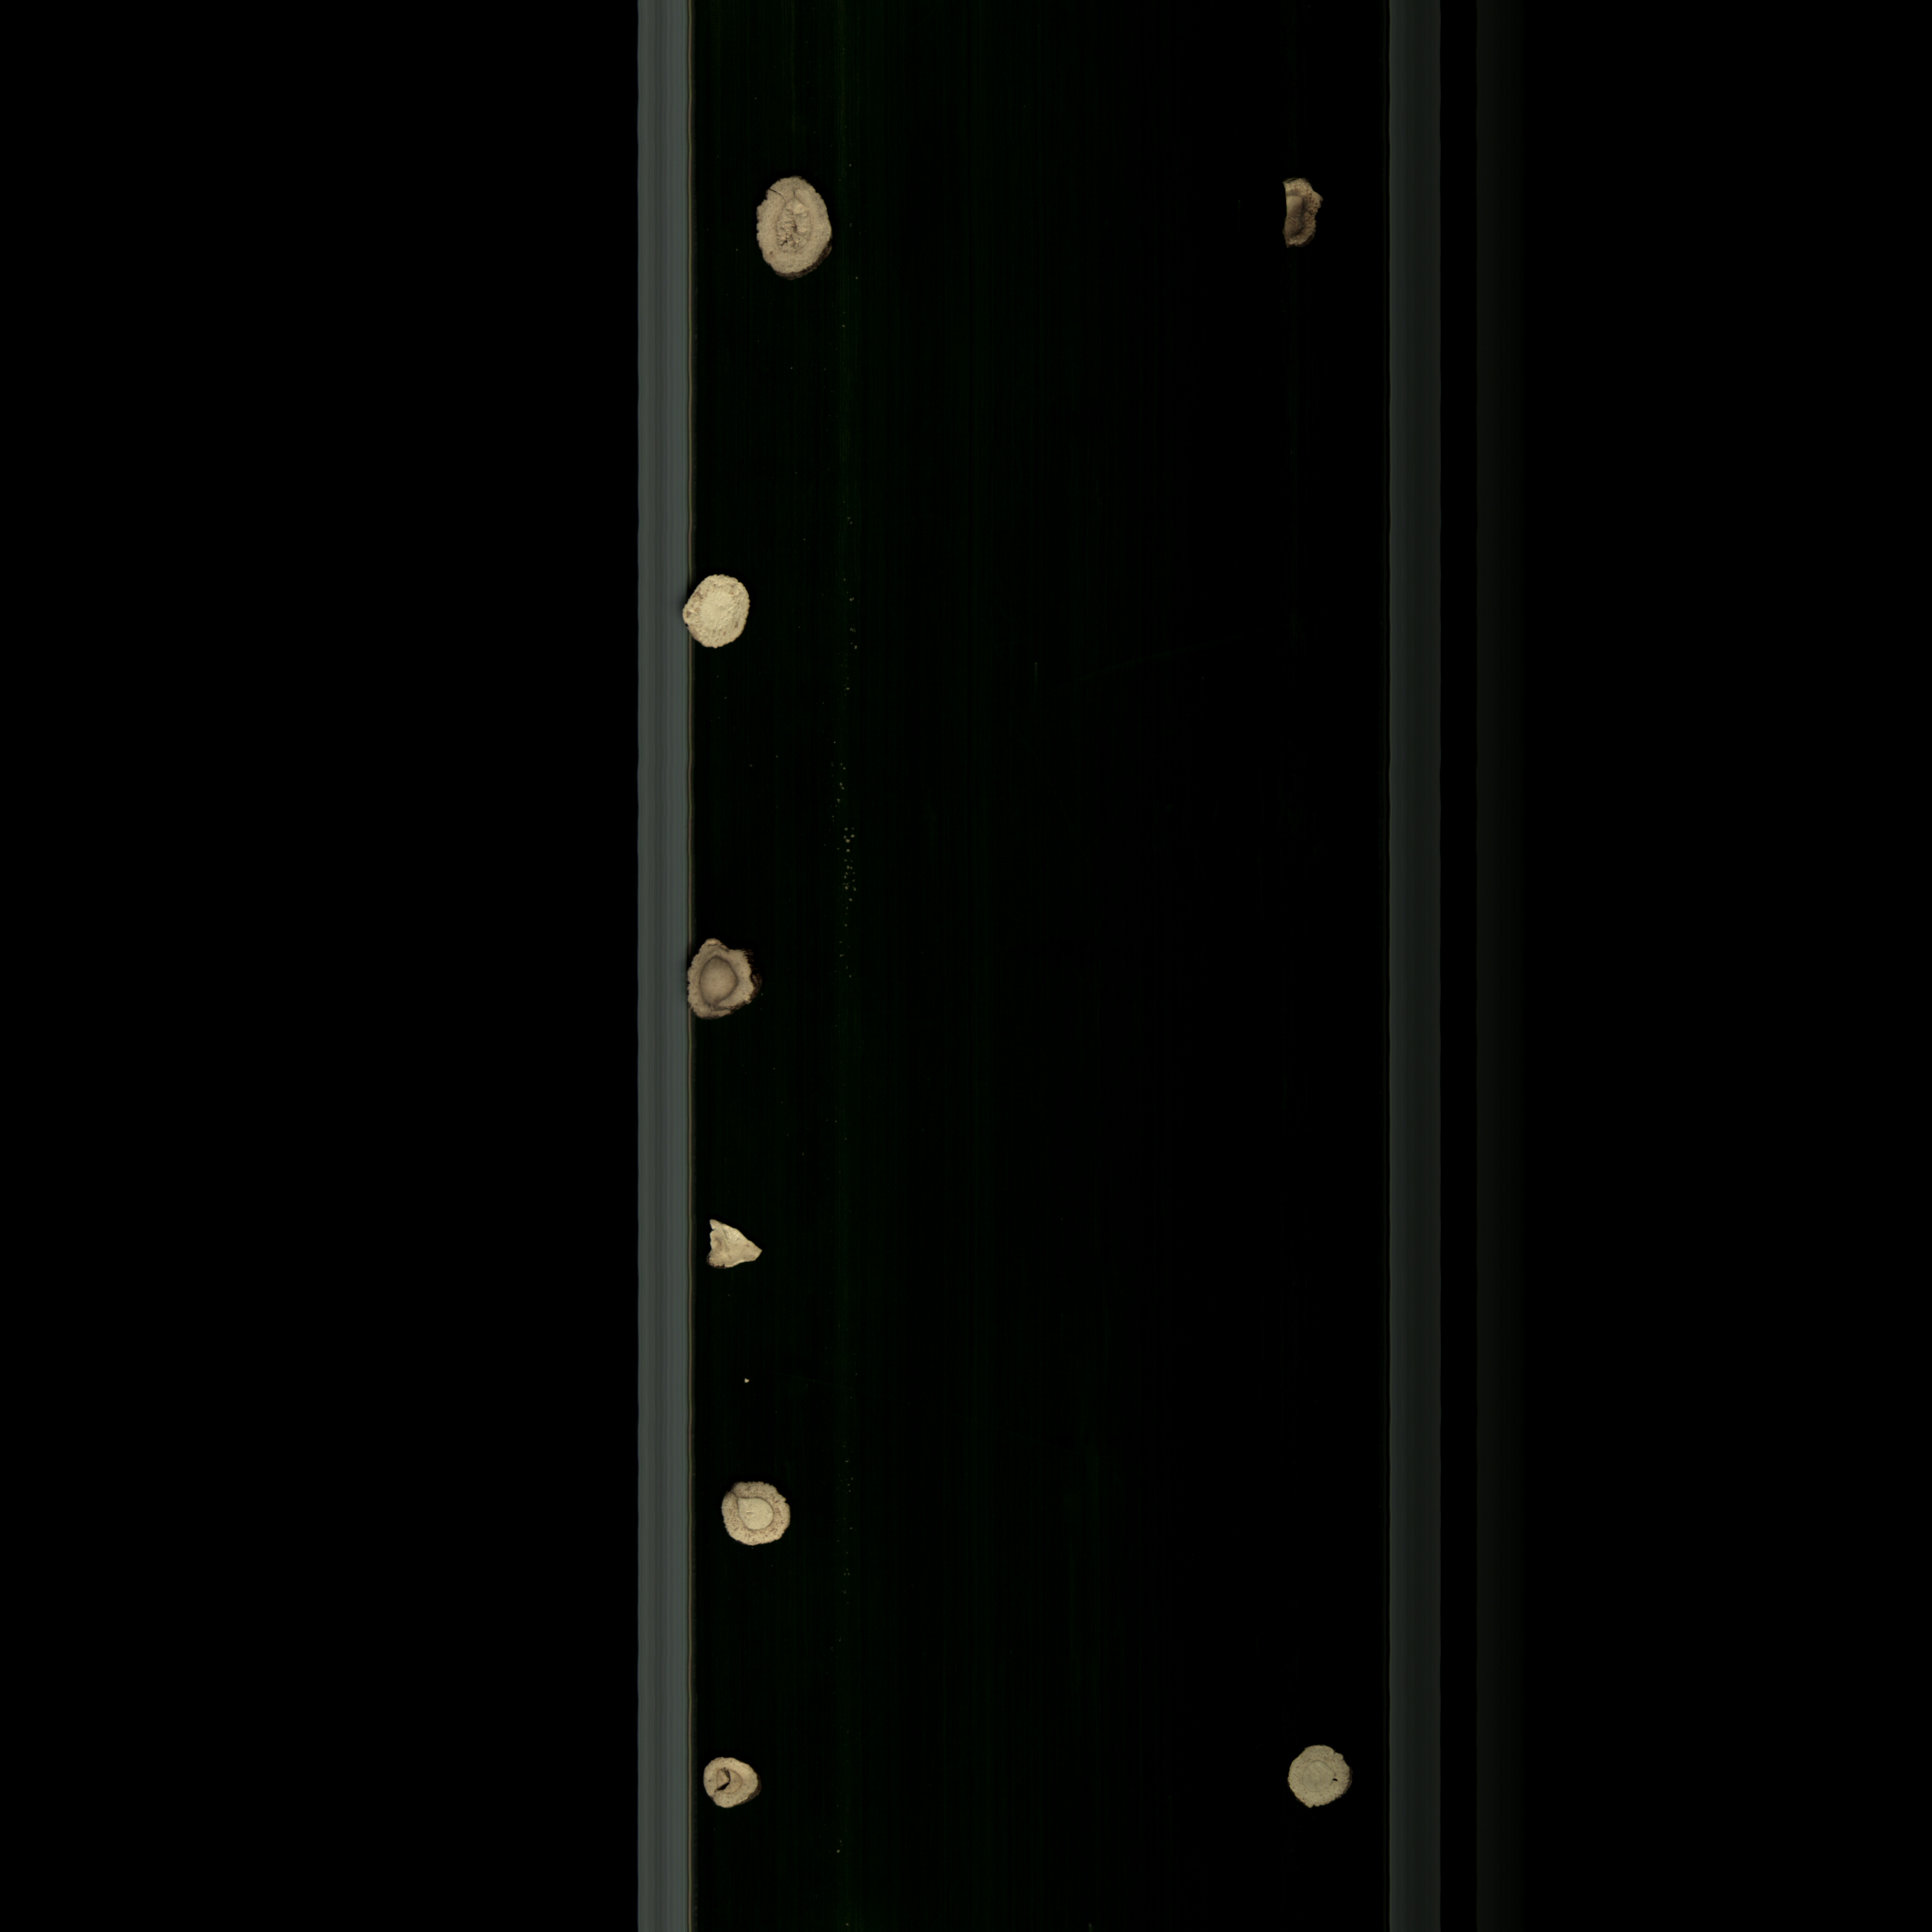debris: (699, 1210, 777, 1283)
hole: (1276, 1736, 1366, 1822), (695, 1741, 773, 1824)
moldy: (745, 156, 847, 299), (683, 934, 761, 1031), (1270, 170, 1329, 262)
